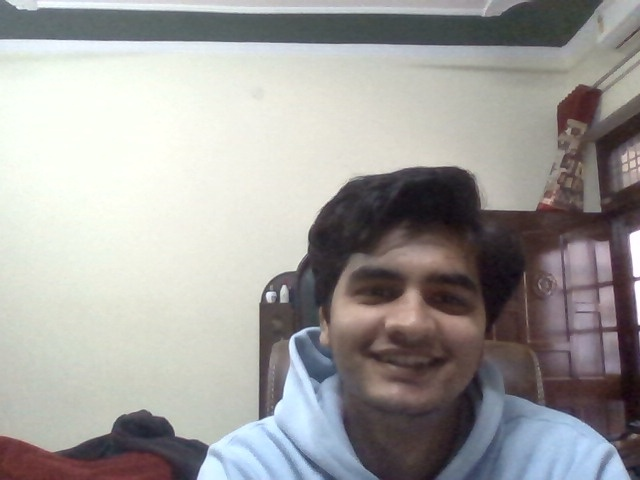joy: (350, 252, 478, 406)
